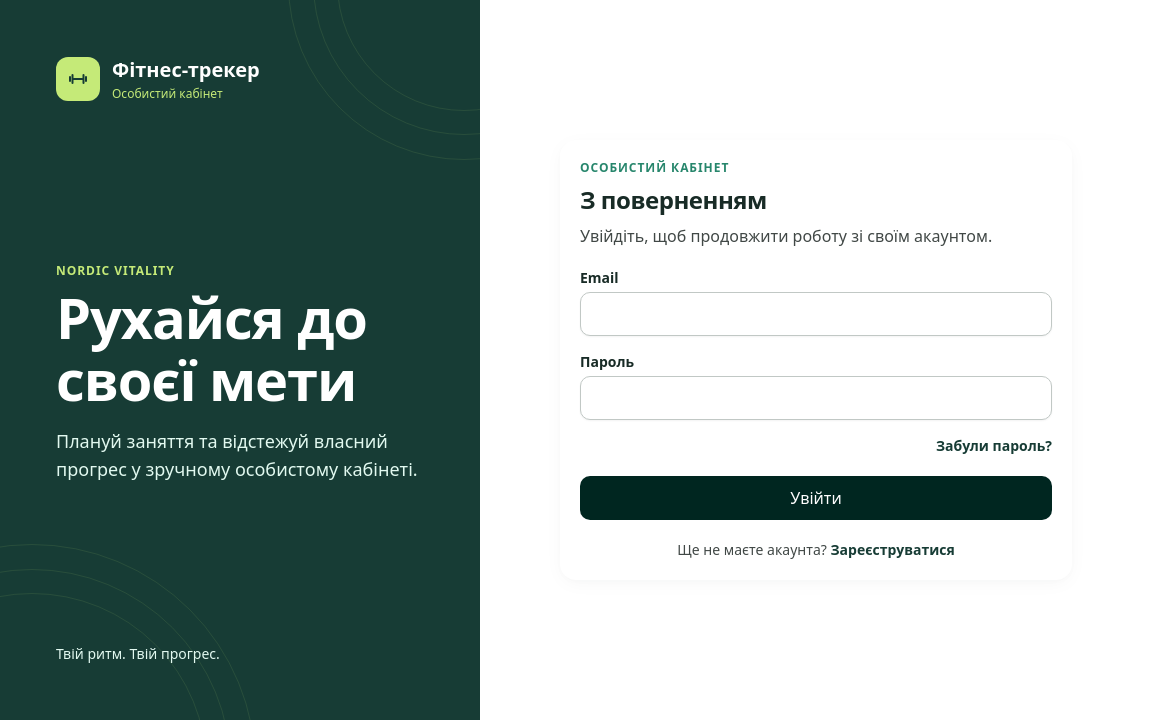
it: navigates from login to password reset request page (D02) and back to login
Expected: the button "Увійти" is shown, [580,476,1052,520]
Step 1. Click the link "Забули пароль?" → {"x": 994, "y": 446}, box [936,436,1052,456]
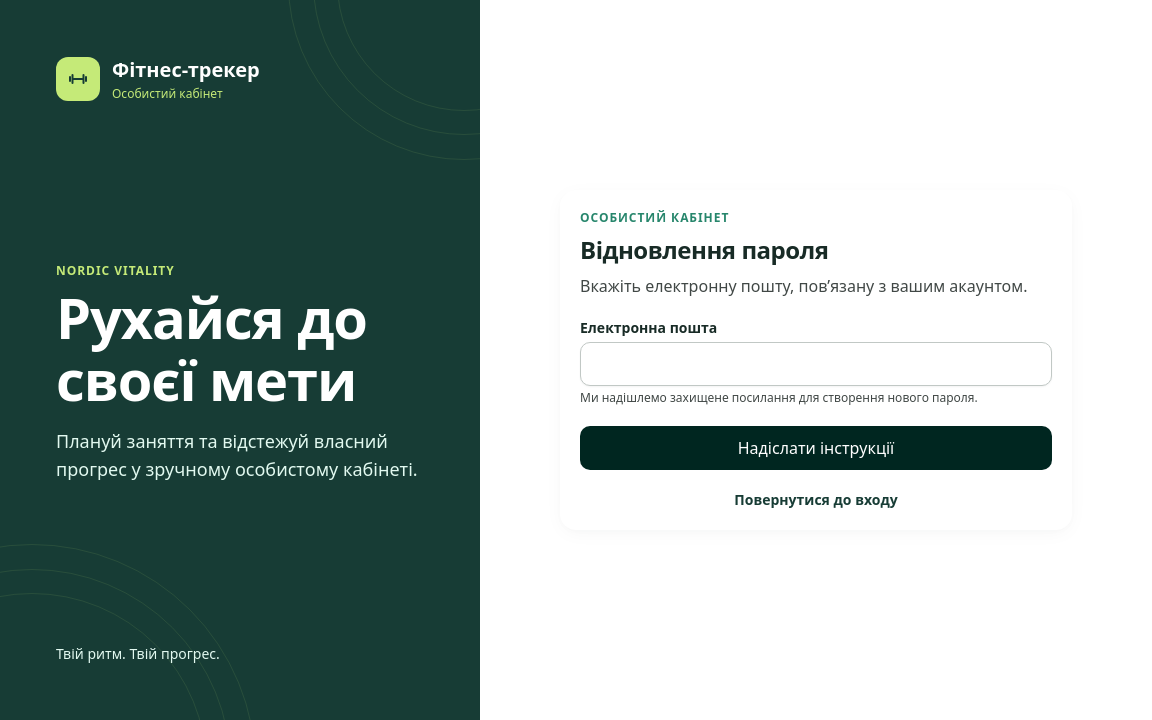
Expected: the heading "Відновлення пароля" is shown, [580,233,828,266]
Step 2. Click the link "Повернутися до входу" → {"x": 816, "y": 500}, box [734,490,898,509]
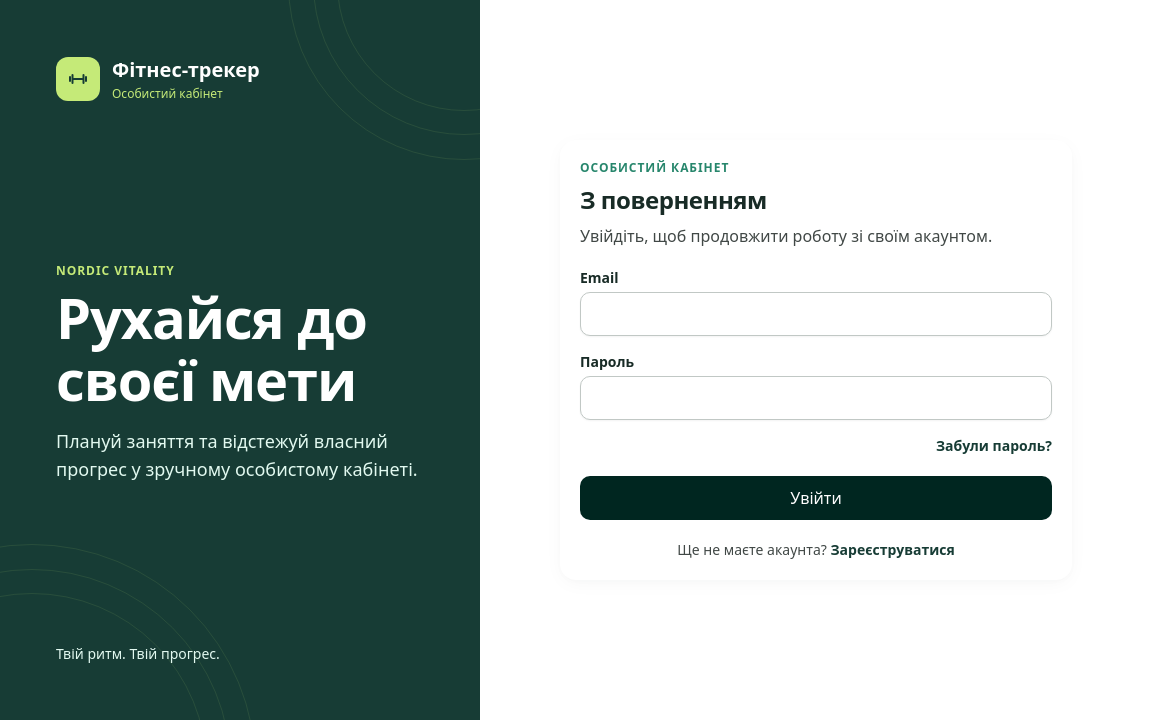
Expected: the button "Увійти" is shown, [580,476,1052,520]
